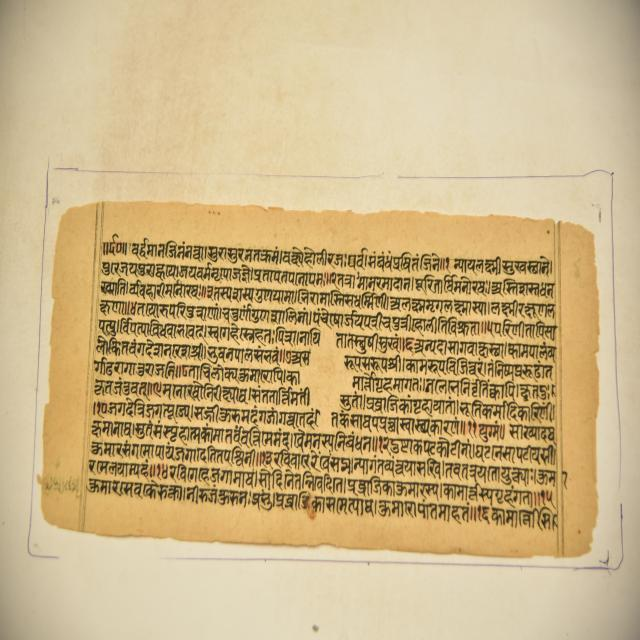text_paragraph: (41, 197, 596, 553)
